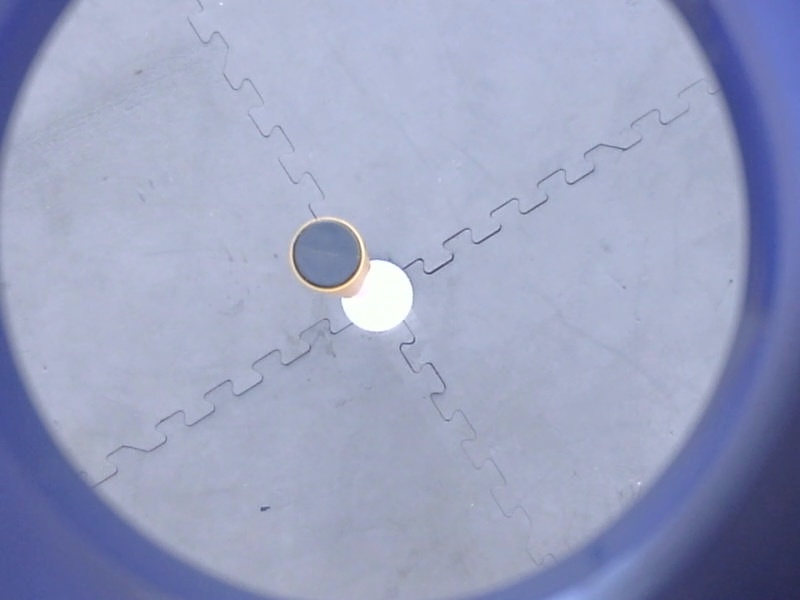tip: (285, 212, 369, 299)
